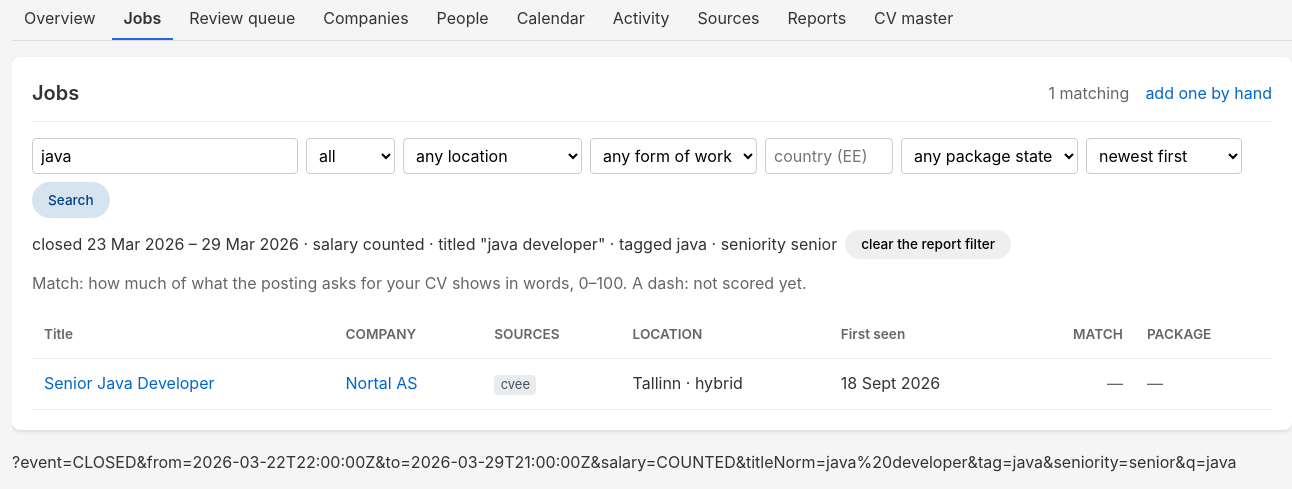
Test: MasiJobs › a report figure's jobs › asks for every status, names the period, and clears back to the open registry
Expected: the text "1 matching" is shown, x1=1048 y1=81 x2=1129 y2=106
Expected: the dropdown named "Status" shows "all", x1=306 y1=138 x2=395 y2=174
Step 1. Click the button "clear the report filter" → coordinates (928, 245), box x1=845 y1=230 x2=1011 y2=259
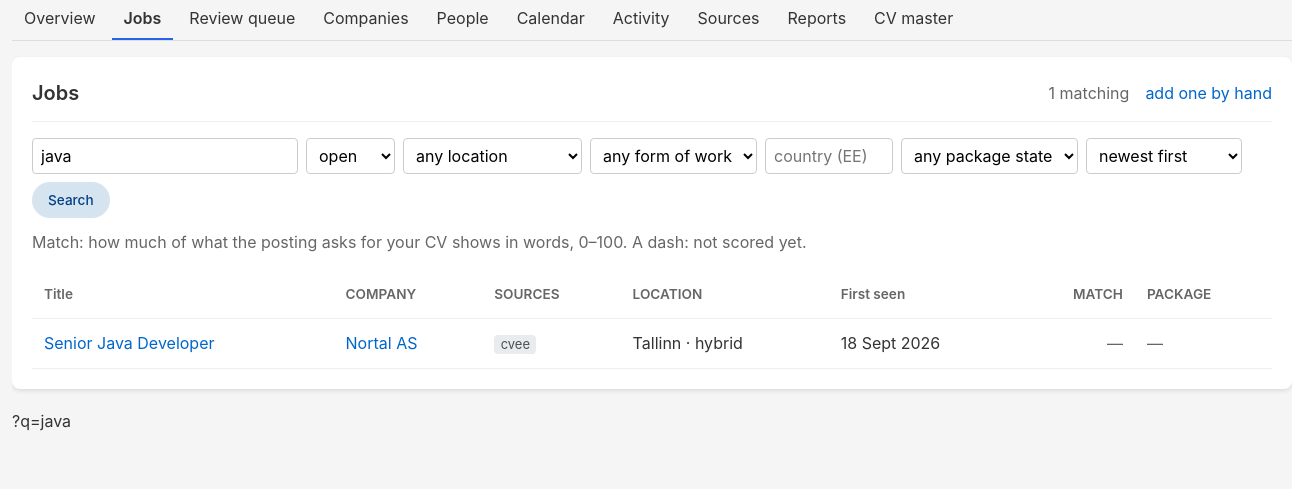
Result: the button "report filter" is gone
Result: the text with test id "search" reads "?q=java" at x1=12 y1=411 x2=71 y2=431
